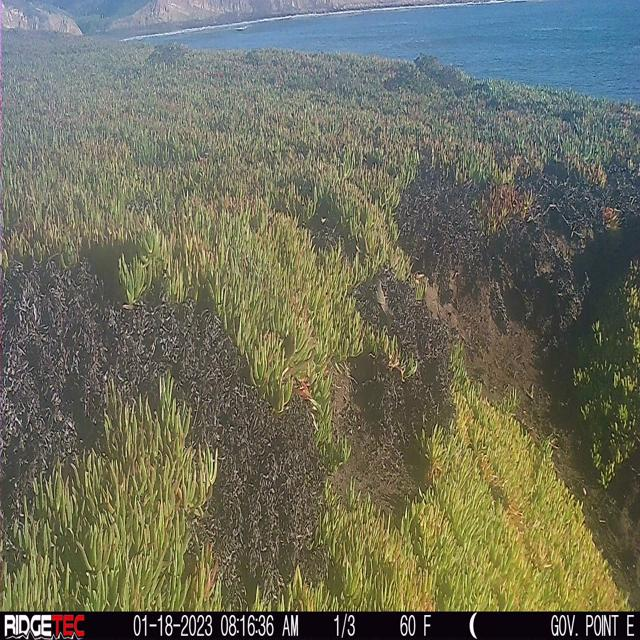bird: (370, 281, 394, 328)
